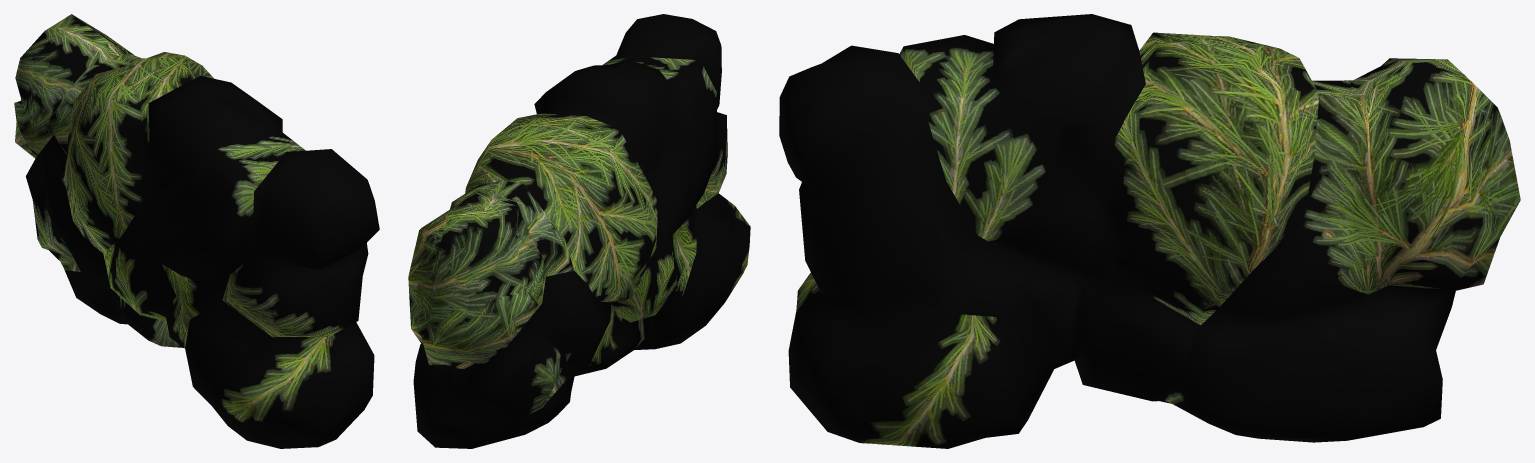
File: rocks_03-blend.obj
The picture shows the model from 3 angles, left to right: view 1: azimuth 30°, elevation 25°; view 2: azimuth 150°, elevation 25°; view 3: azimuth 270°, elevation 25°; orthographic projection. The views are drawn at different scales.
Visible parts, largest first — view 1: rocks_03_Untitled; view 2: rocks_03_Untitled; view 3: rocks_03_Untitled.
Boxes of the visible parts, x1,y1,x2,y2 form: rocks_03_Untitled: (14, 14, 379, 448); rocks_03_Untitled: (408, 14, 750, 448); rocks_03_Untitled: (779, 14, 1520, 448).
Size of the model in its own units: 0.8191 by 1.48 by 2.45.
